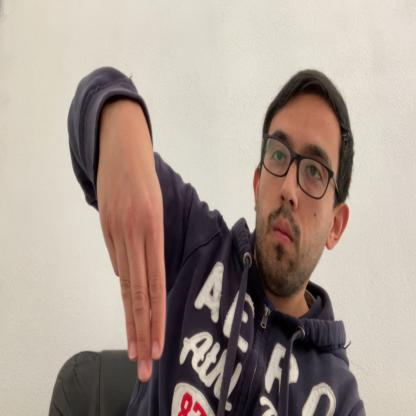M: (97, 147, 166, 384)
